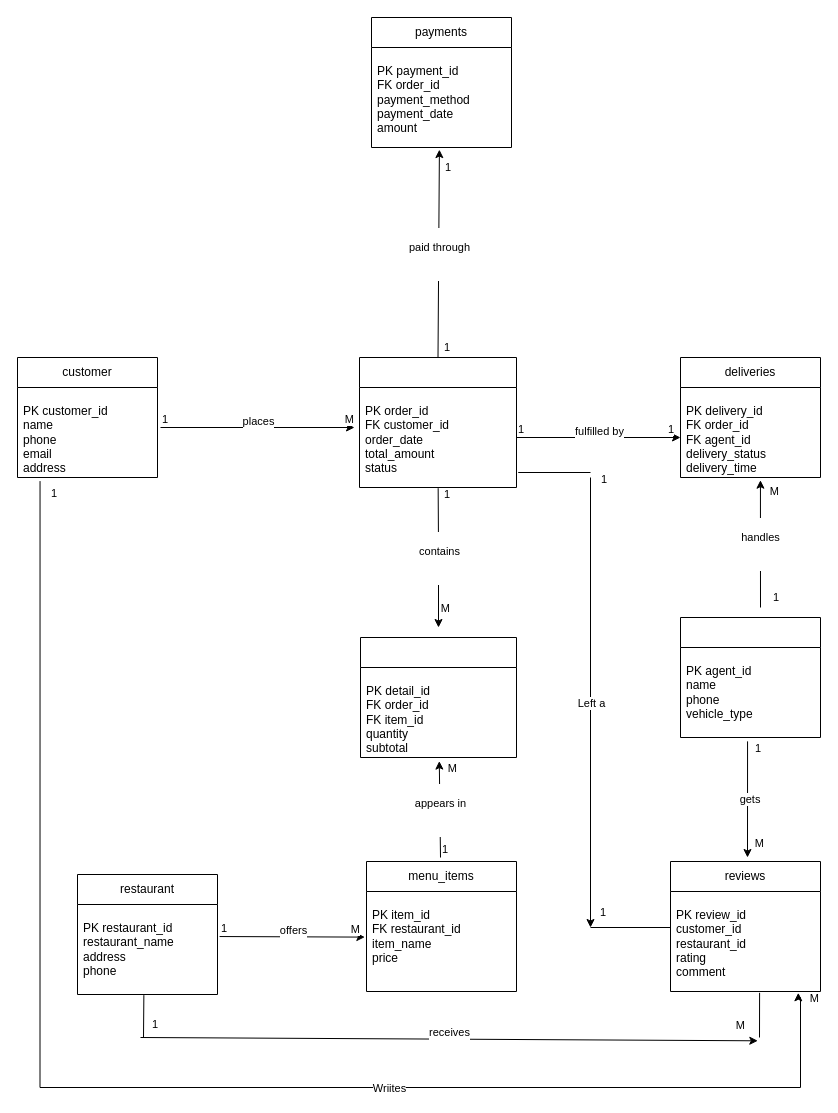
The diagram is 838 pixels wide and 1113 high, and some of its shapes have lost their labels. The box of each missing label's shape, as (x1, y1, x2, y2) in pixels:
delivery_agents: (680, 616, 820, 738)
order_details: (360, 636, 516, 758)
orders: (358, 356, 516, 488)
